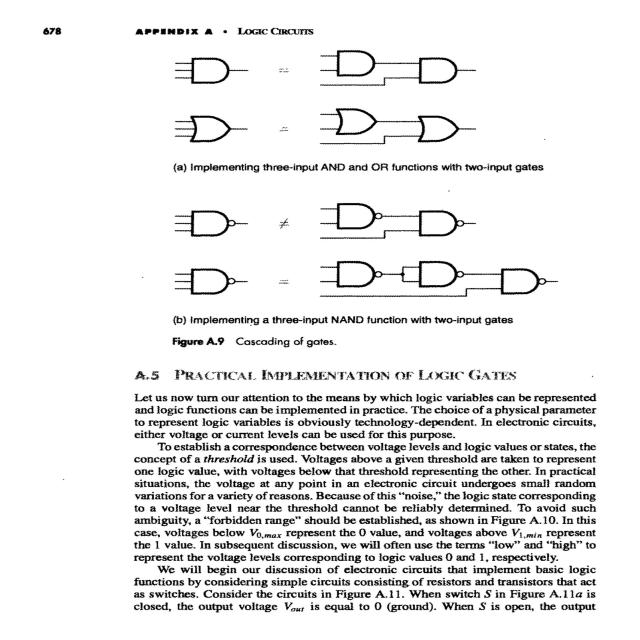diagram: (140, 48, 586, 360)
